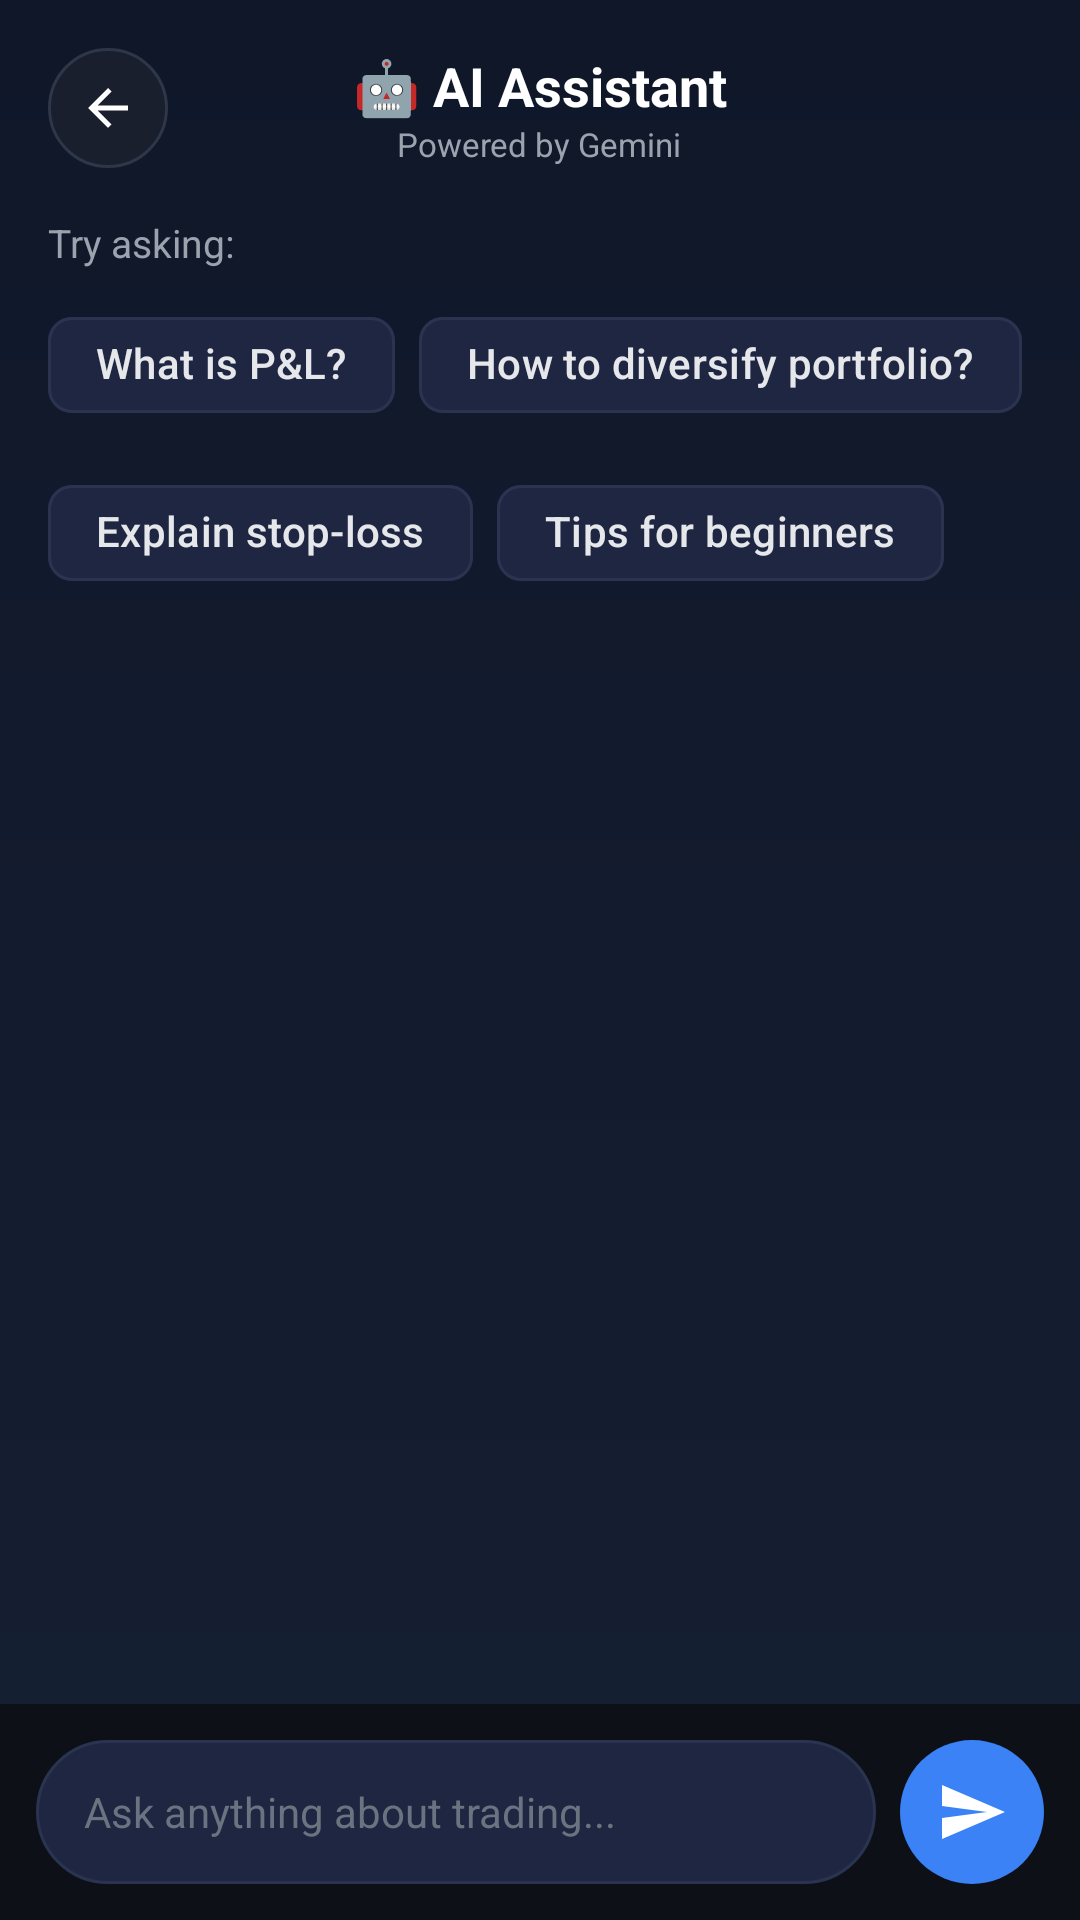

Screen size 1080px x 1920px. Icon name, then its box in pixels as (x1, y1, x2, y2):
back arrow: (48, 48, 168, 168)
Send: (900, 1740, 1044, 1884)
